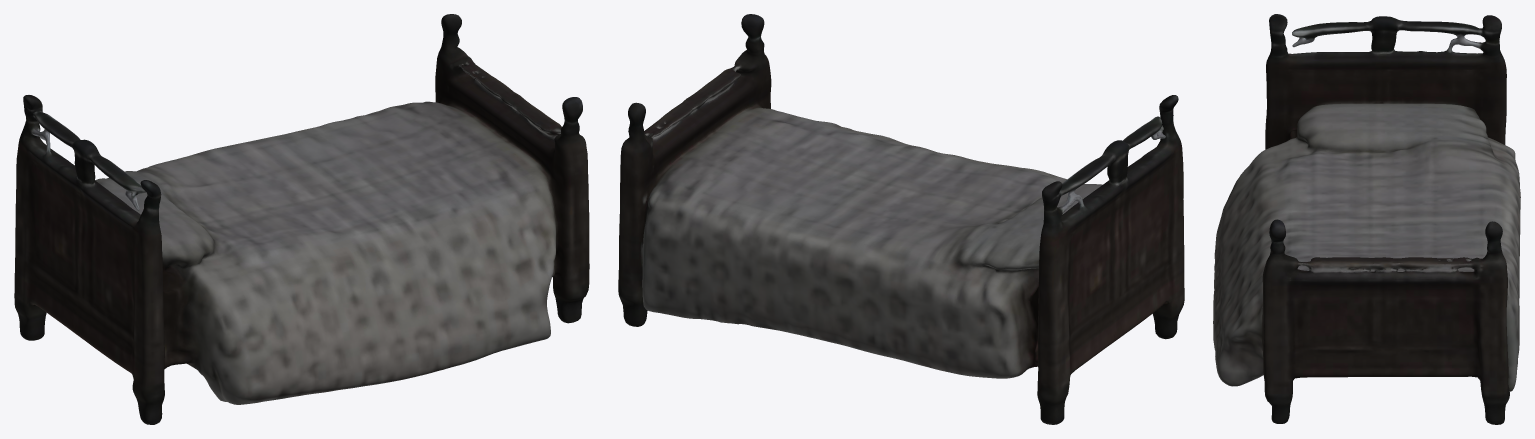
The model's file is 913513263e79_old_bed__3d_asset_0.fbx.
3 renders of one model, left to right at view 1: azimuth 30°, elevation 25°; view 2: azimuth 150°, elevation 25°; view 3: azimuth 270°, elevation 25°, orthographic. The views are drawn at different scales.
Visible parts, largest first — view 1: high_poly; view 2: high_poly; view 3: high_poly.
Part boxes in pixels (x1,y1,x2,y2): high_poly: (14, 14, 589, 424); high_poly: (618, 14, 1184, 424); high_poly: (1213, 14, 1520, 424).
Size of the model in its own units: 100 by 52.48 by 65.8.
